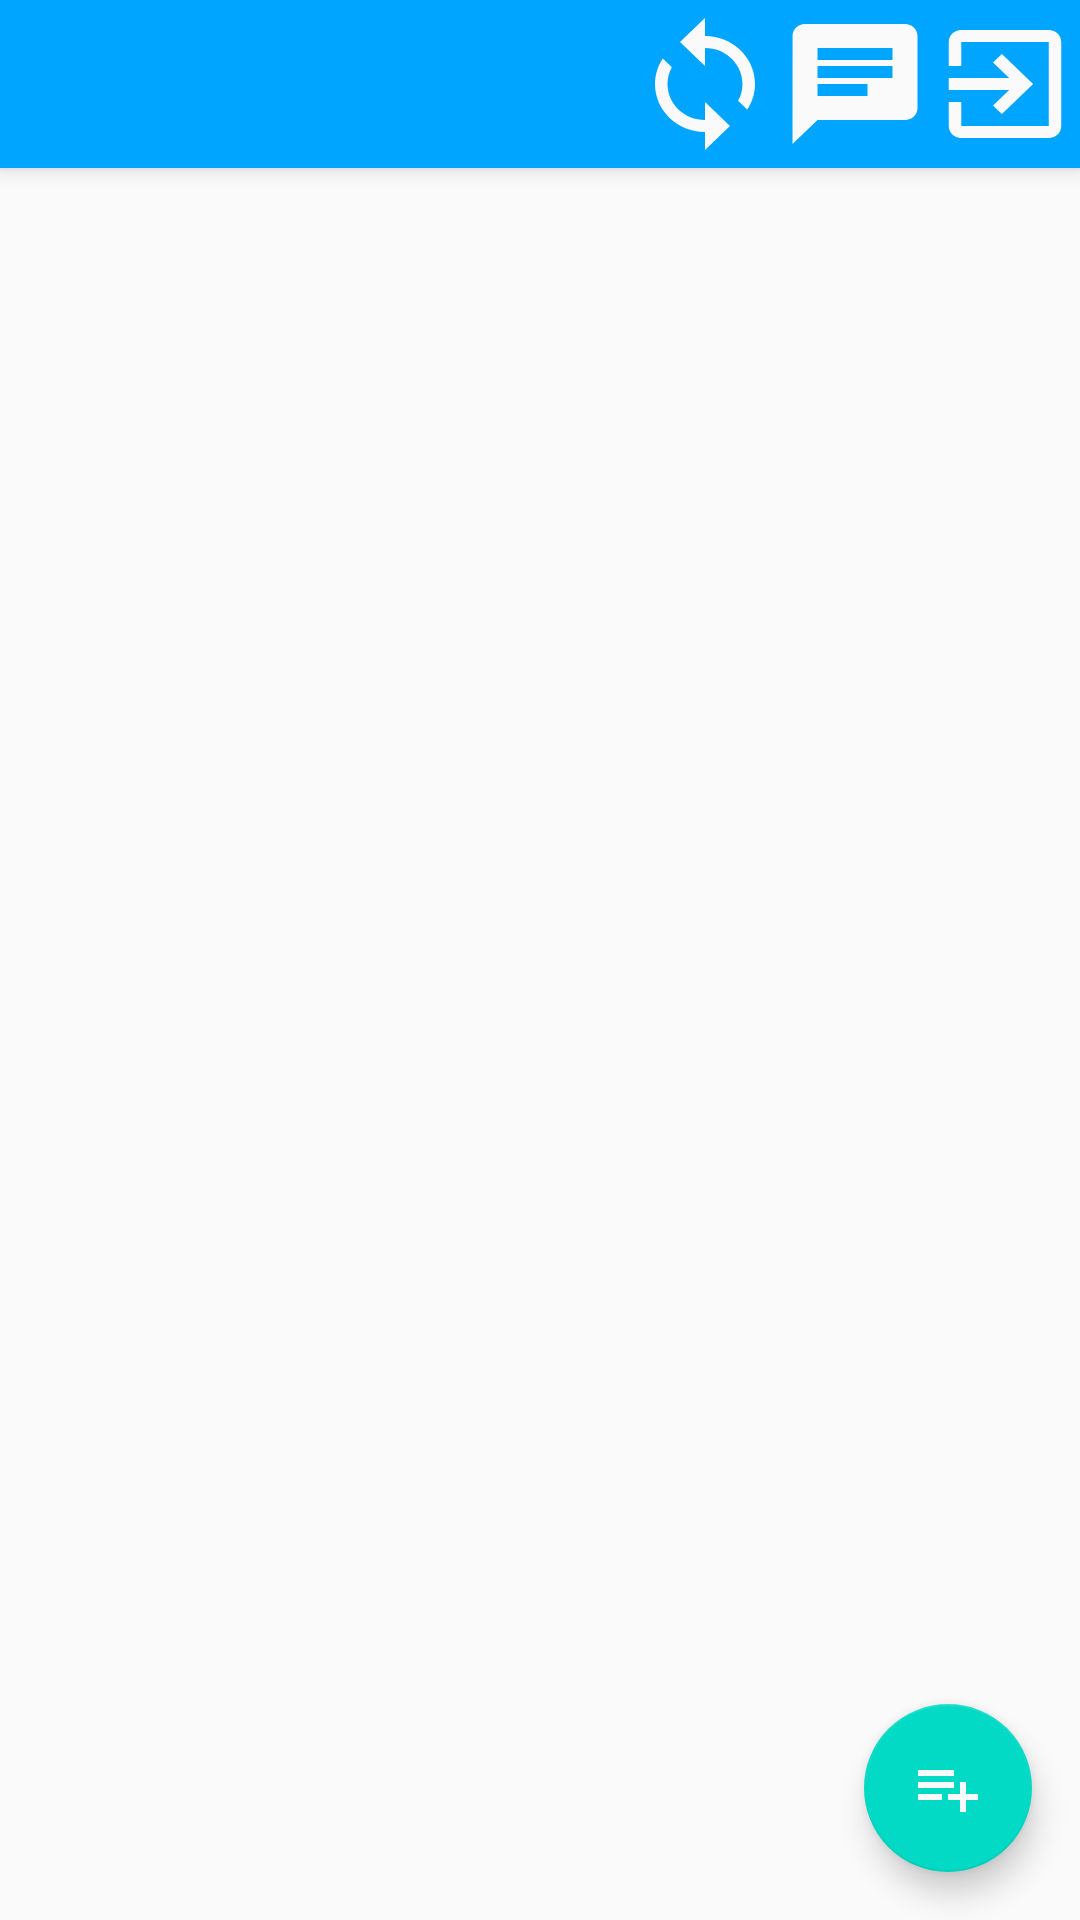

Named icons in this screenshot (1080px×1920px) and their centers, (x,y):
chat: (855,84)
exit to app: (1005,84)
playlist add: (948,1788)
sync: (705,84)
